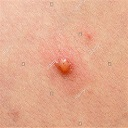Chickenpox: (55, 59, 74, 74)
